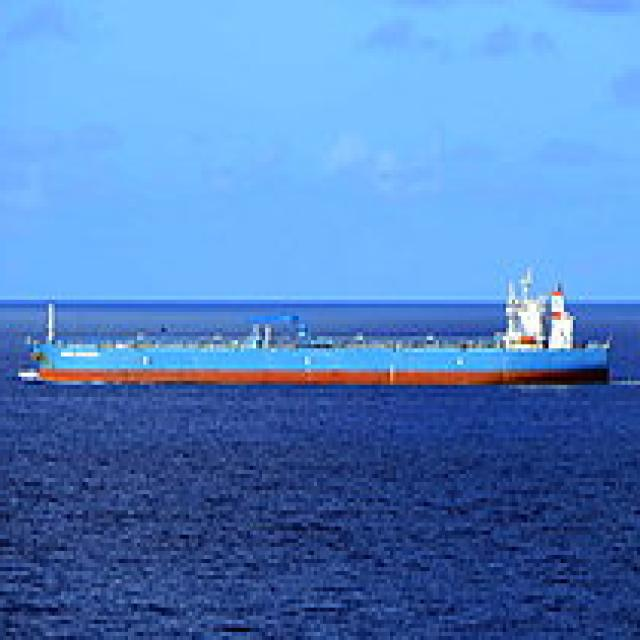Tanker: (37, 259, 612, 381)
